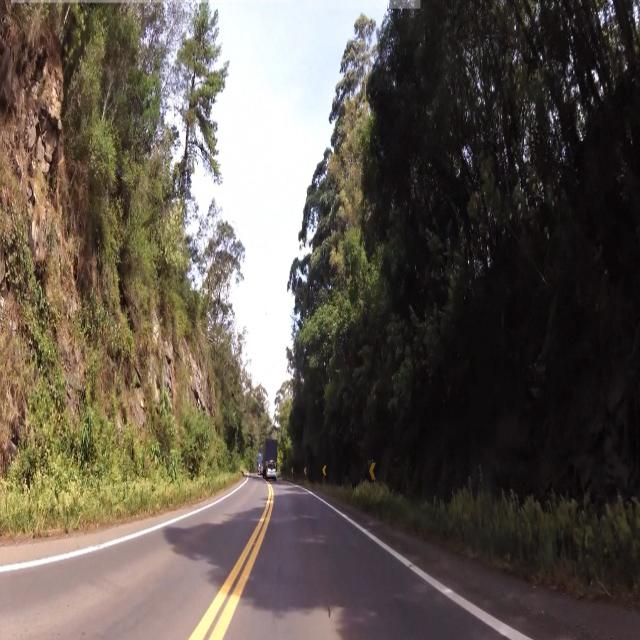Del: (367, 457, 382, 483)
